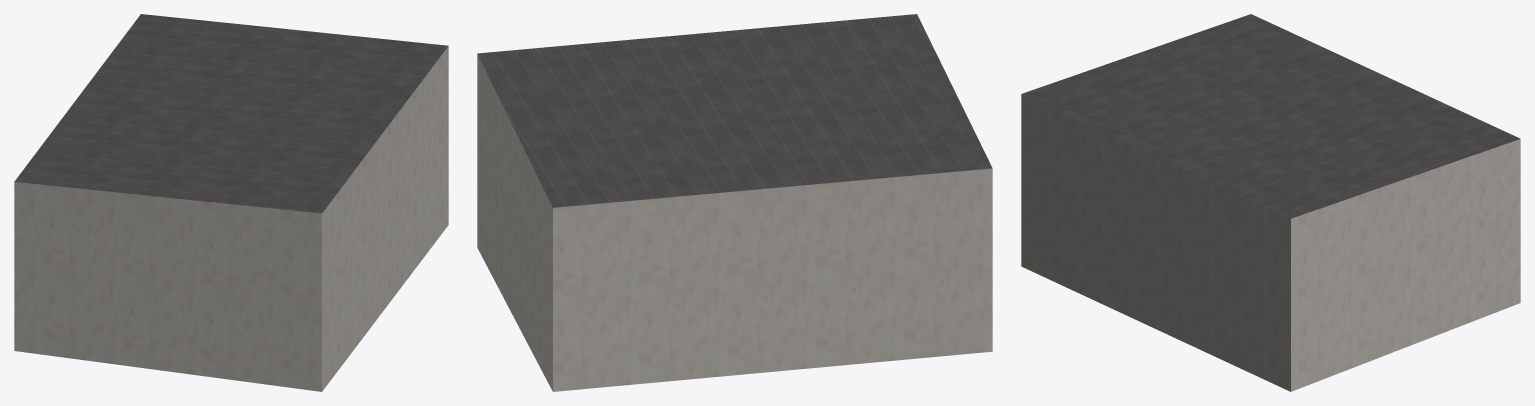
3 renders of one model, left to right at view 1: azimuth 30°, elevation 25°; view 2: azimuth 150°, elevation 25°; view 3: azimuth 270°, elevation 25°, orthographic. The views are drawn at different scales.
Parts seen in each view (by area): view 1: bldg_6004321018, bldg_6004321018_roof; view 2: bldg_6004321018, bldg_6004321018_roof; view 3: bldg_6004321018, bldg_6004321018_roof.
Boxes of the visible parts, x1,y1,x2,y2 form: bldg_6004321018: (14, 46, 448, 391); bldg_6004321018_roof: (14, 14, 448, 213); bldg_6004321018: (477, 54, 992, 391); bldg_6004321018_roof: (477, 14, 992, 207); bldg_6004321018: (1021, 94, 1520, 391); bldg_6004321018_roof: (1021, 14, 1520, 218).
Size of the model in its own units: 18.92 by 7.12 by 18.62.
Materials: 2 (2 with a texture image).
